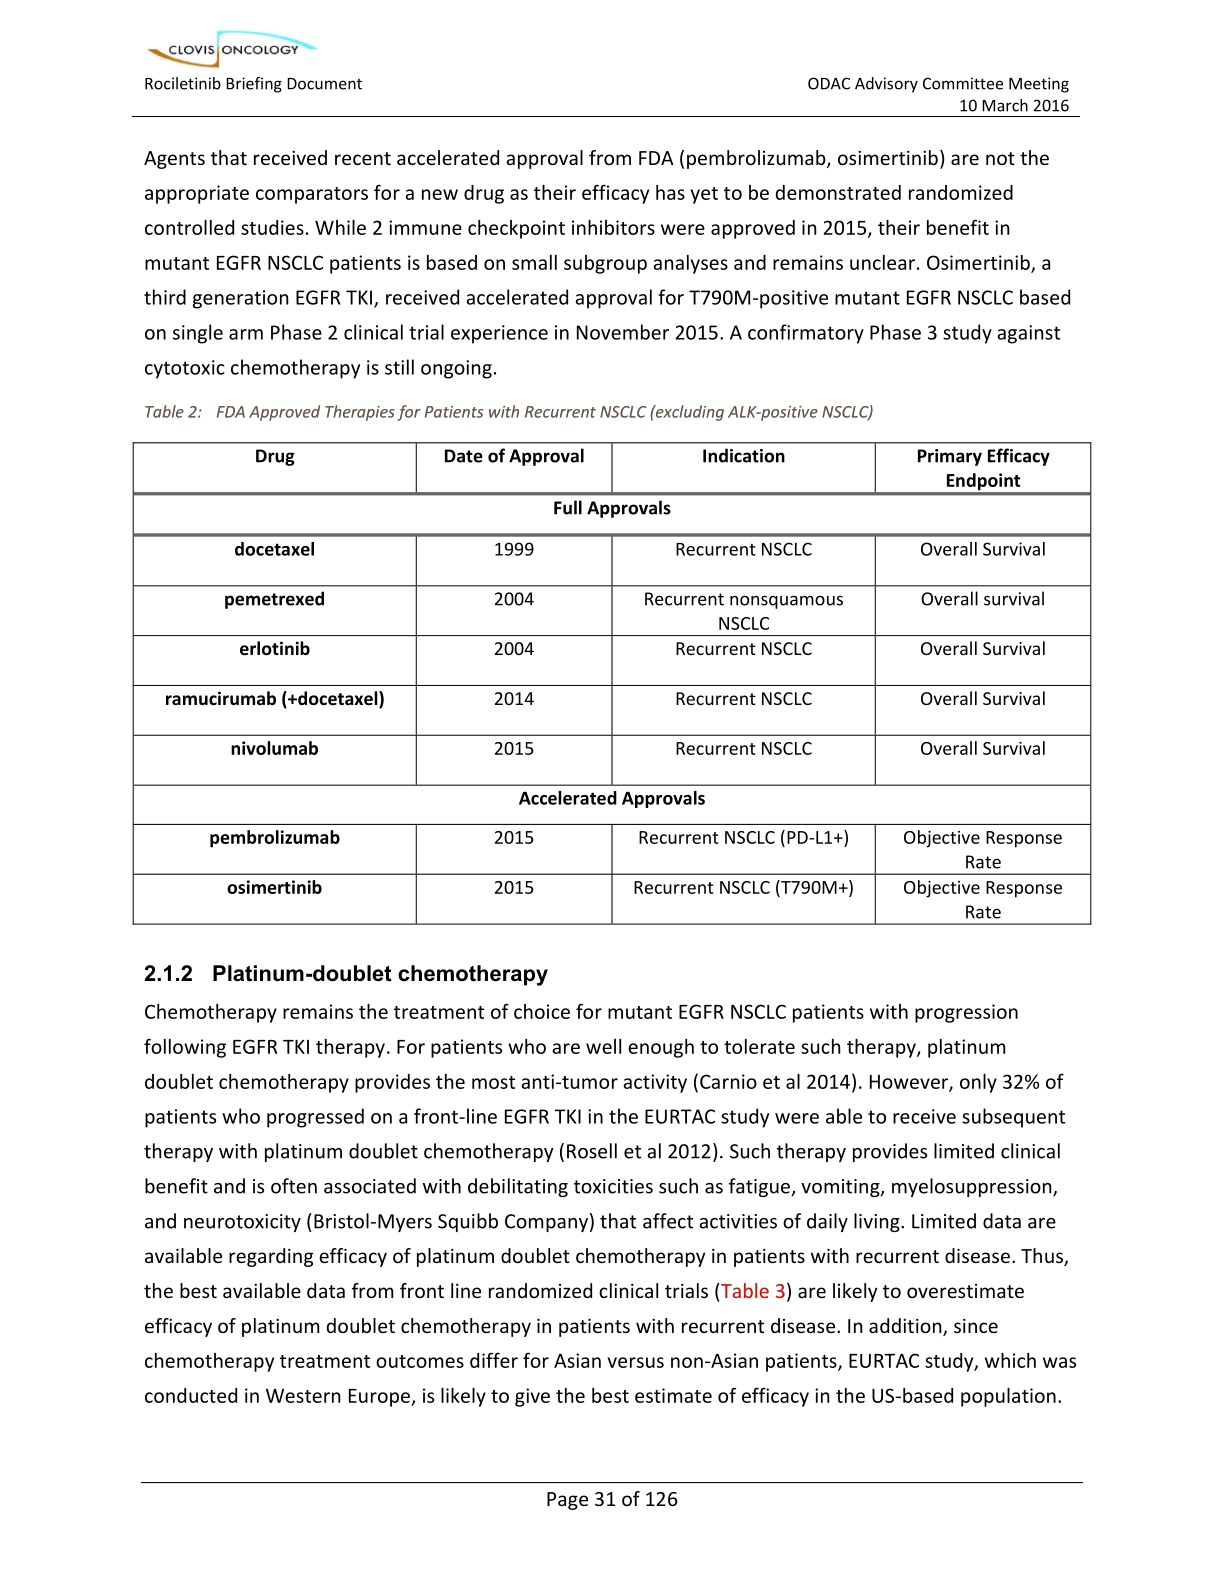merged_cells: (130, 441, 1092, 926)
